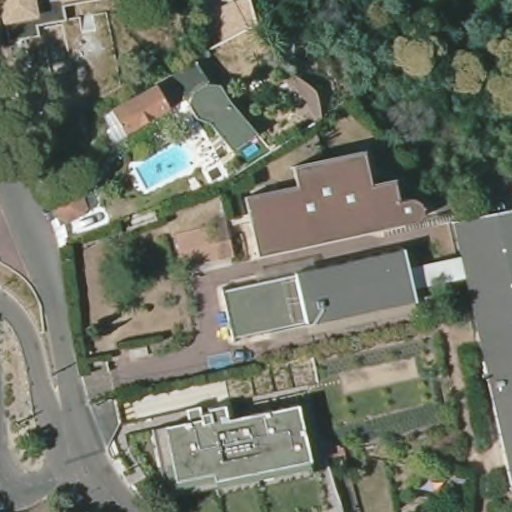pool: (133, 144, 194, 191)
